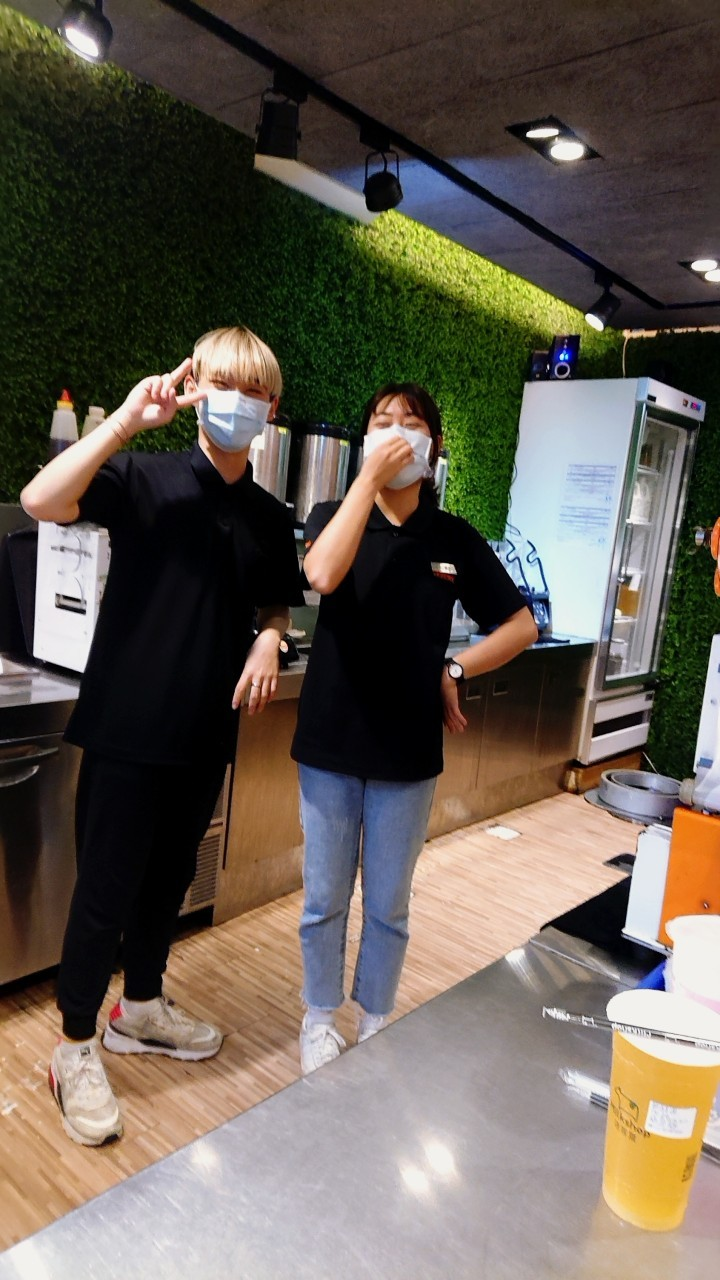people: (40, 329, 299, 1137), (303, 374, 548, 1074)
